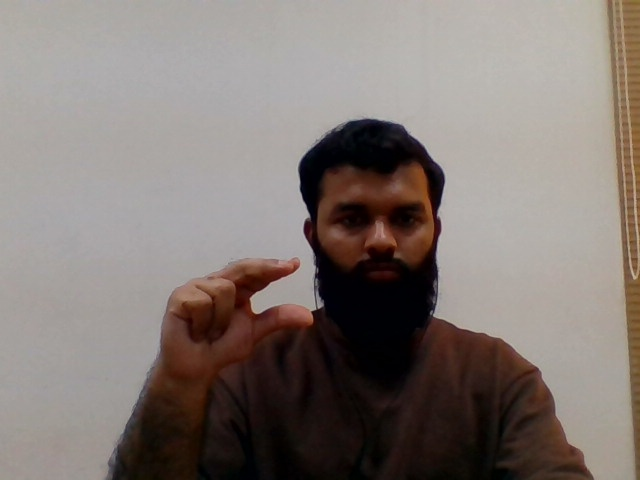No: (139, 247, 320, 391)
